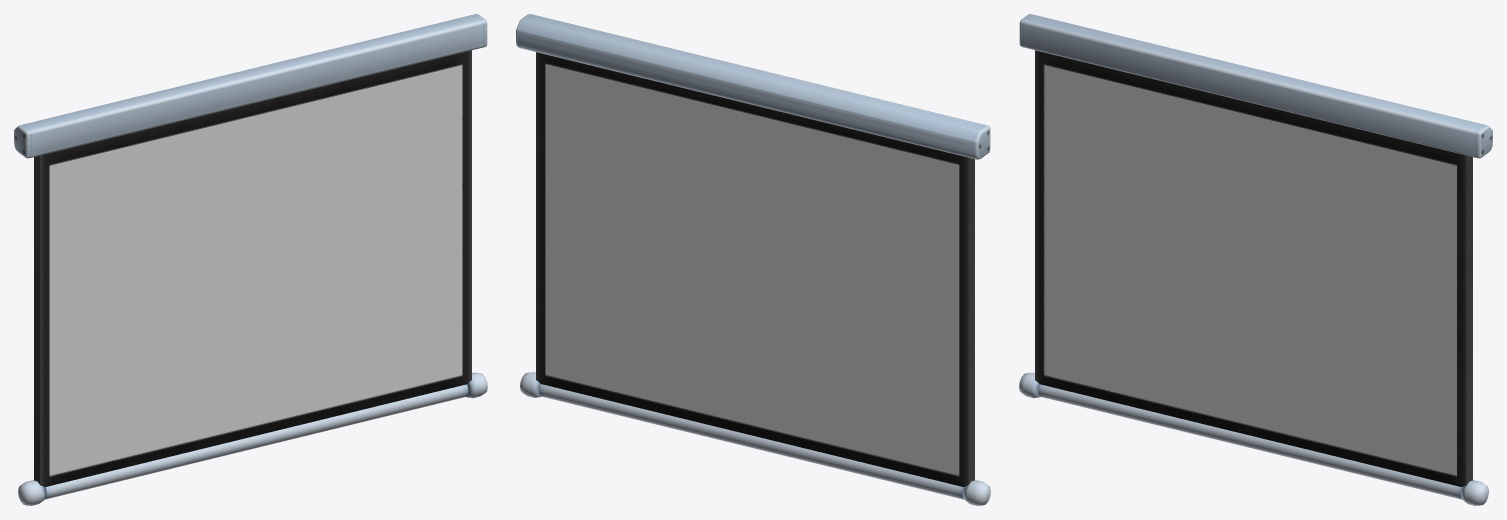
File: OfficeProjectionScreen01.fbx
The picture shows the model from 3 angles, left to right: view 1: azimuth 30°, elevation 25°; view 2: azimuth 150°, elevation 25°; view 3: azimuth 330°, elevation 25°; orthographic projection.
Parts seen in each view (by area): view 1: OfficeProjectionScreen01; view 2: OfficeProjectionScreen01; view 3: OfficeProjectionScreen01.
Boxes of the visible parts, x1=… form: OfficeProjectionScreen01: x1=14, y1=14, x2=487, y2=505; OfficeProjectionScreen01: x1=516, y1=14, x2=990, y2=505; OfficeProjectionScreen01: x1=1019, y1=14, x2=1492, y2=505.
Size of the model in its own units: 2.93 by 2.28 by 0.1684.
1 material, 1 textured.
